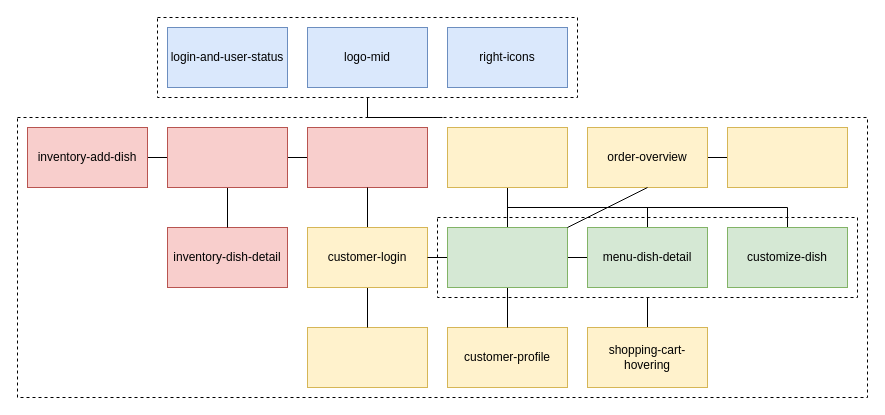
Some shapes in this 885 by 415 pixel diagram are drawn without their labels. Here are the shapes that lost their labels. From the top down, the box of each, then its label:
(166, 126, 288, 188): inventory
(306, 126, 428, 188): admin-login
(446, 126, 568, 188): shopping-cart
(726, 126, 848, 188): order-detail
(446, 226, 568, 288): menu
(306, 326, 428, 388): customer-registration
